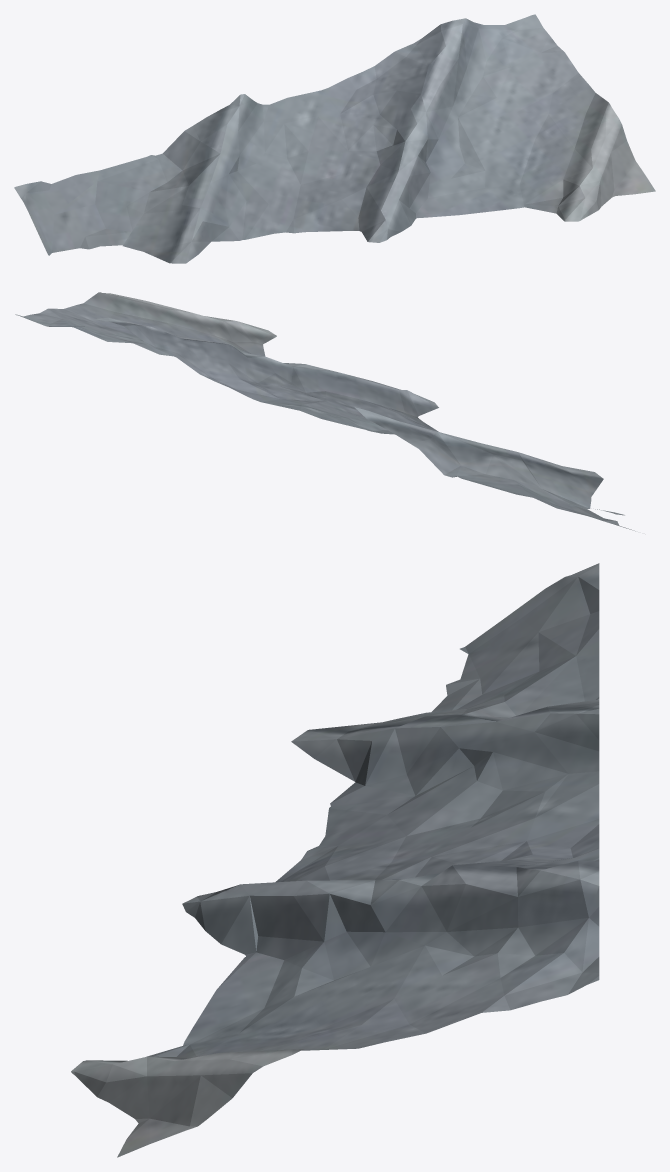
3 views of the same model, one above another, from view 1: azimuth 30°, elevation 25°; view 2: azimuth 150°, elevation 25°; view 3: azimuth 270°, elevation 25° (orthographic). The views are drawn at different scales.
Bounding box in the file's own units: 0.8373 × 0.1576 × 0.3674.
1 material, 1 textured.
